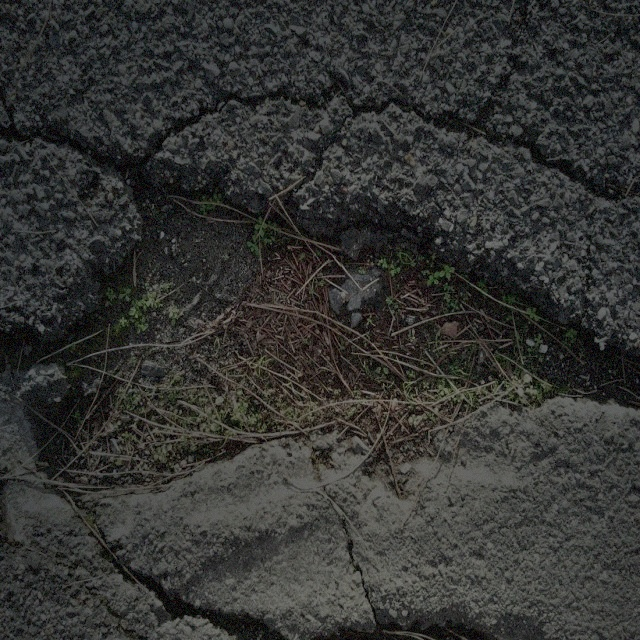pothole: (21, 154, 602, 510)
